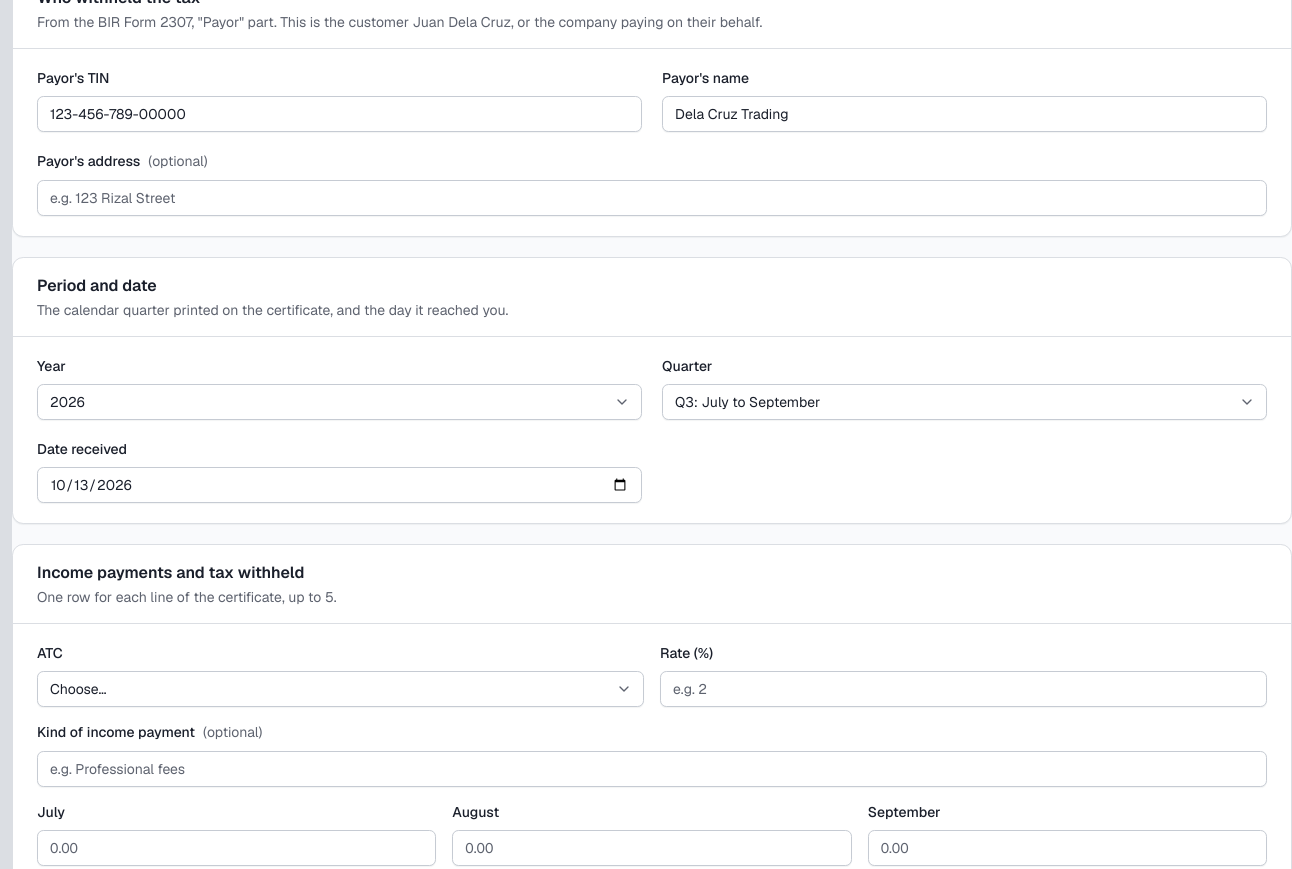
Test: saving › puts each problem next to its field and moves focus to the first
The width and height of the screenshot is (1292, 869).
Select "WI160 (2%)" in the dropdown labelled "ATC" at [340, 689], box [37, 671, 644, 707]
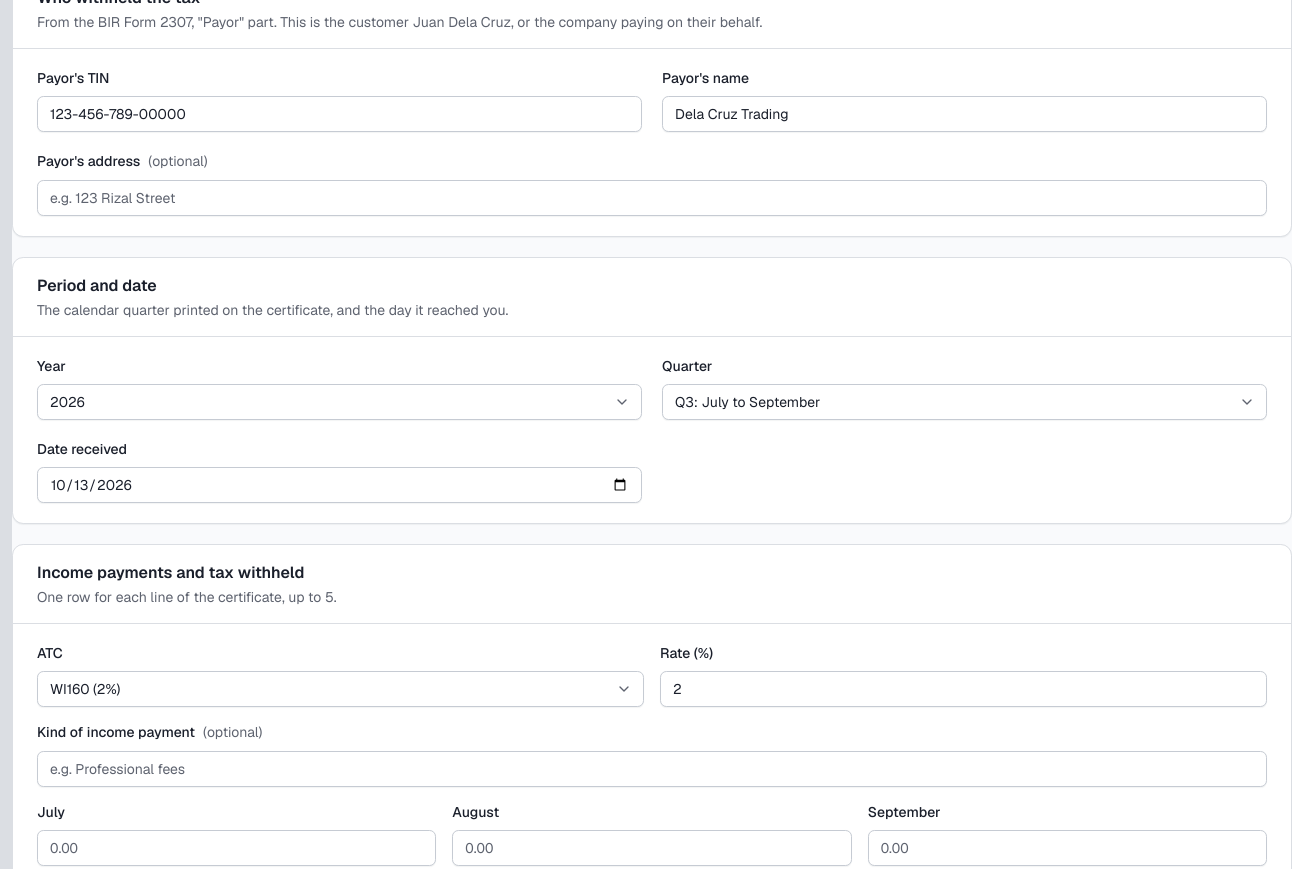
Type "1,500" into the field labelled "August" at [652, 848], box [452, 830, 852, 866]
(page scrolled)
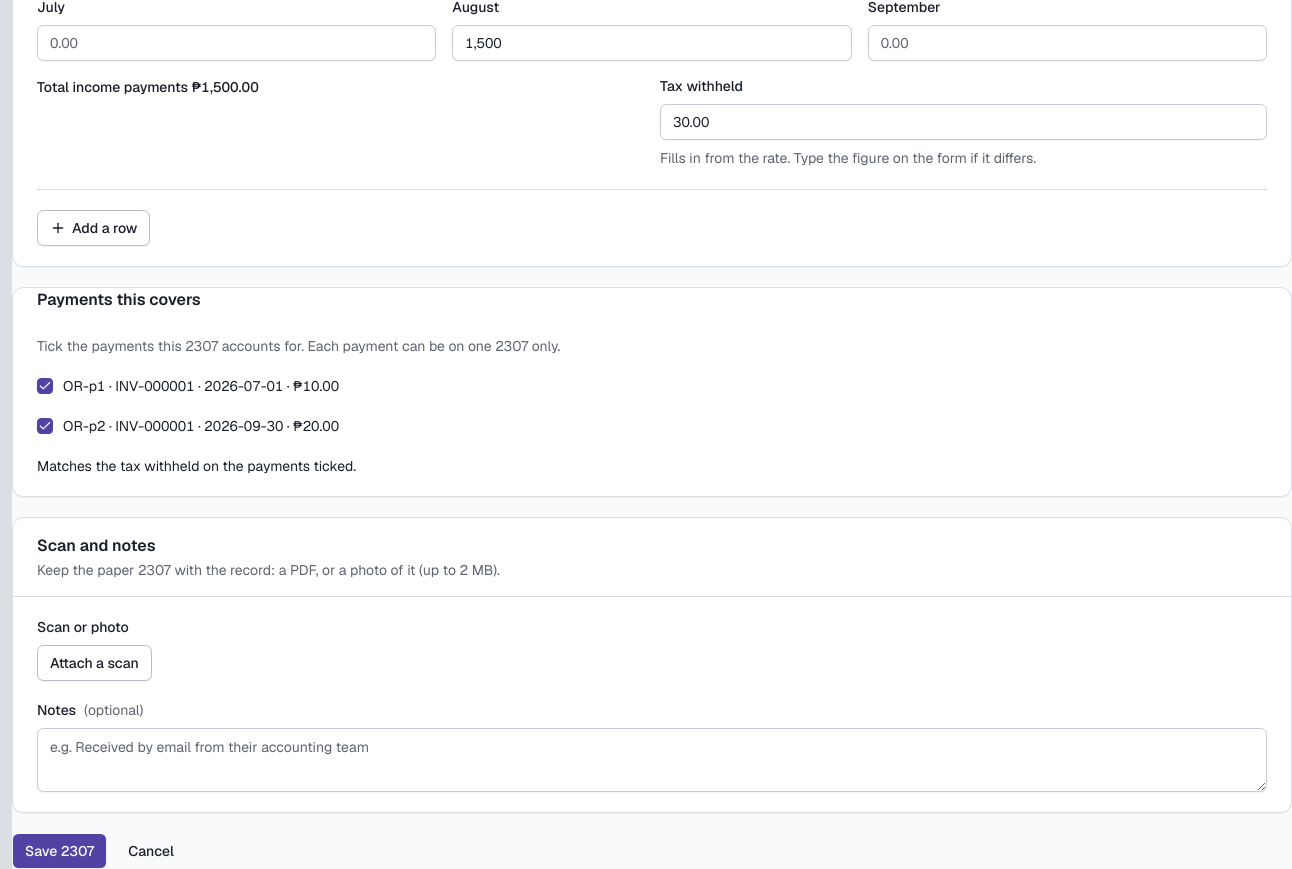
Click the button "Save 2307" at [60, 851], box [12, 833, 107, 868]
(page scrolled)
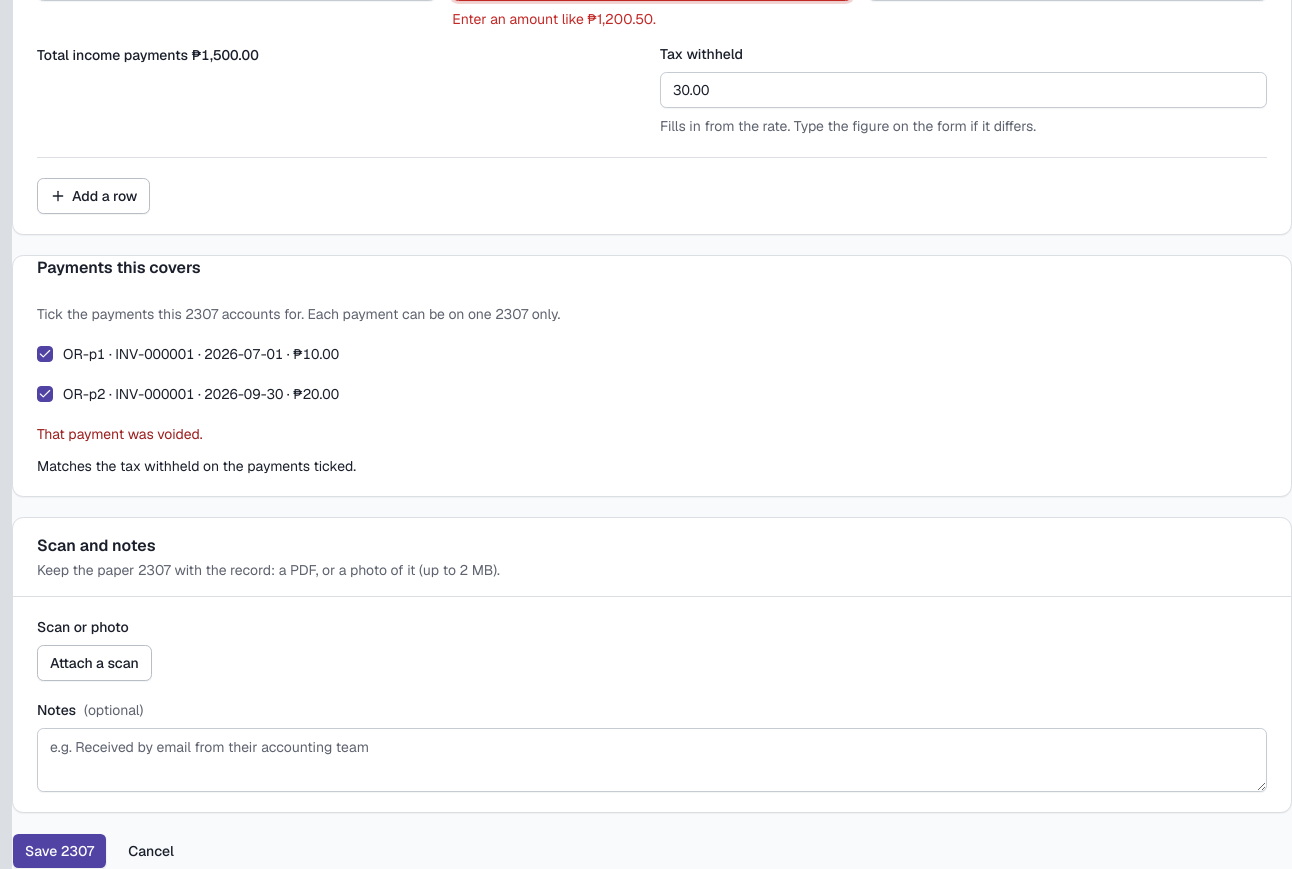
Now the text "Enter an amount like ₱1,200.50." is shown, box [452, 10, 656, 28]
Now the text "That payment was voided." is shown, box [37, 425, 203, 443]
